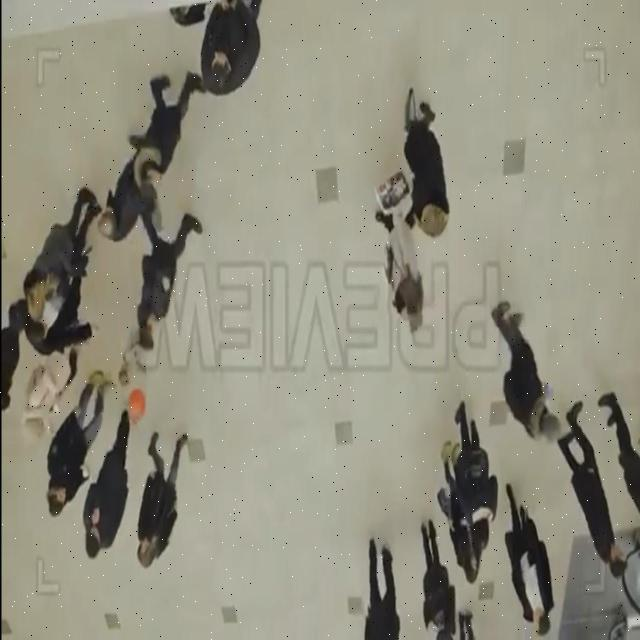humans: (558, 402, 630, 585), (127, 211, 205, 350), (488, 301, 562, 444), (22, 185, 96, 322), (136, 65, 204, 202), (394, 87, 450, 244), (44, 375, 102, 519), (504, 479, 554, 640), (447, 399, 499, 552), (132, 426, 188, 568), (370, 201, 425, 335), (80, 412, 129, 560), (196, 0, 266, 98), (596, 384, 640, 516), (442, 436, 480, 581), (412, 516, 456, 638), (20, 294, 100, 356), (358, 532, 401, 640), (96, 137, 139, 245), (116, 326, 144, 387)
